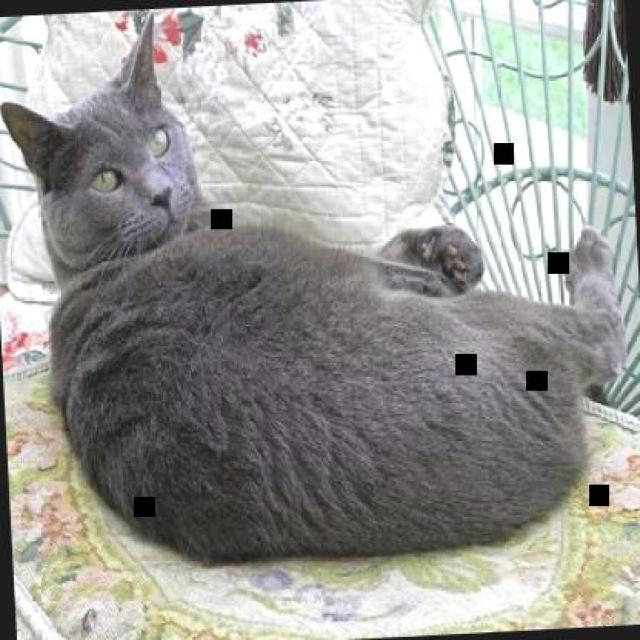cat: (0, 0, 637, 577)
